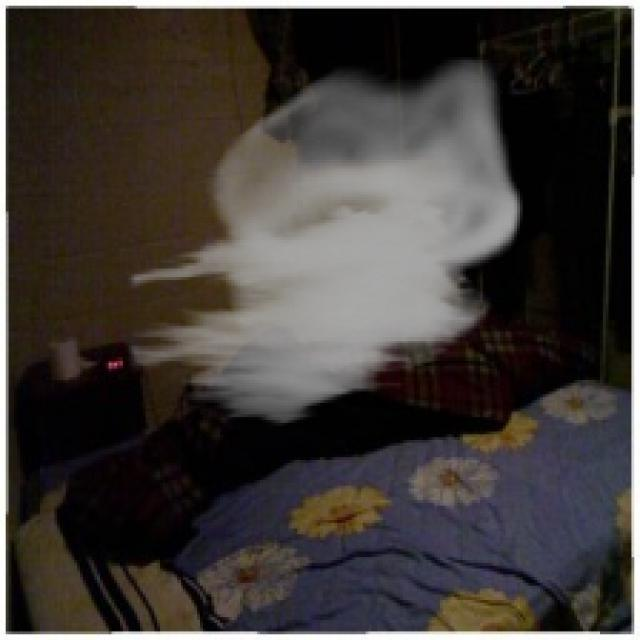Smoke: (128, 57, 523, 429)
